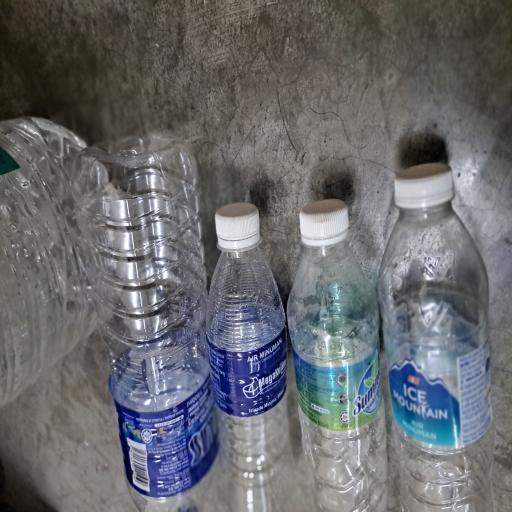plastic bottle: (0, 96, 285, 290), (75, 0, 300, 158), (0, 377, 202, 512), (0, 274, 203, 380)
plastic bottle cap: (198, 394, 238, 465), (198, 286, 238, 348)
